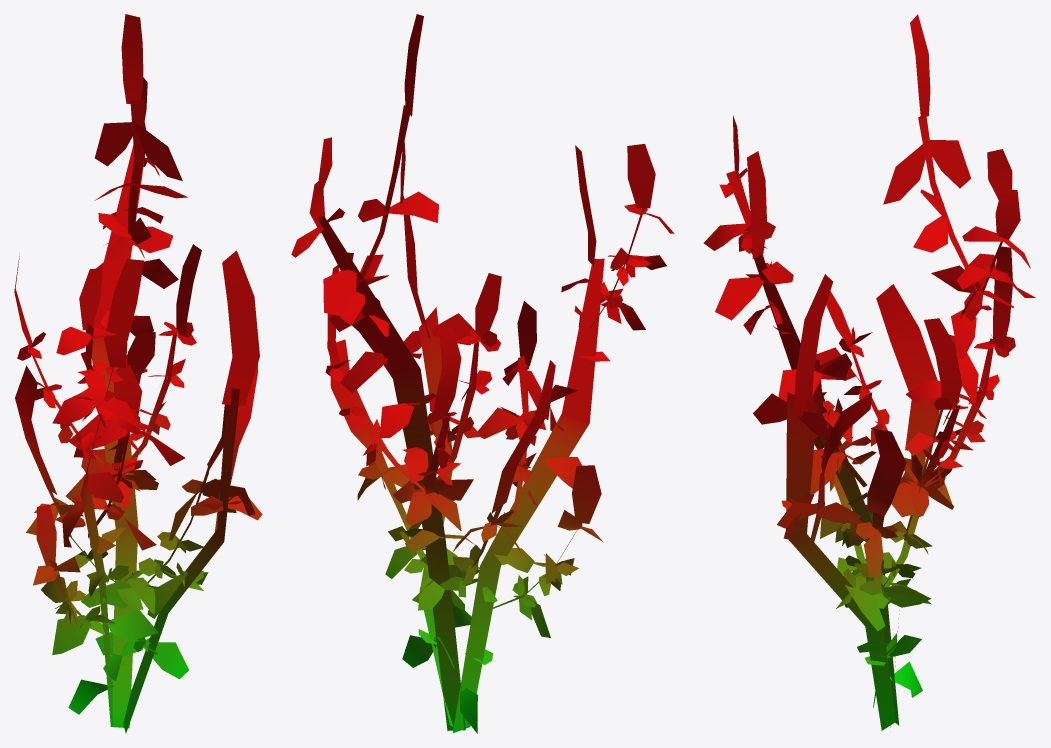
Rendered from Var2_LOD2.fbx.
3 views of the same model, side by side, from view 1: azimuth 30°, elevation 25°; view 2: azimuth 150°, elevation 25°; view 3: azimuth 270°, elevation 25° (orthographic). The views are drawn at different scales.
Visible parts, largest first — view 1: _c55c_Var2_LOD2; view 2: _c55c_Var2_LOD2; view 3: _c55c_Var2_LOD2.
Part boxes in pixels (box(x1,y1,x2,y2)): _c55c_Var2_LOD2: box(14, 14, 262, 733); _c55c_Var2_LOD2: box(291, 14, 674, 733); _c55c_Var2_LOD2: box(703, 14, 1035, 730).
Bounding box in the file's own units: 35.17 × 89.23 × 37.13.
